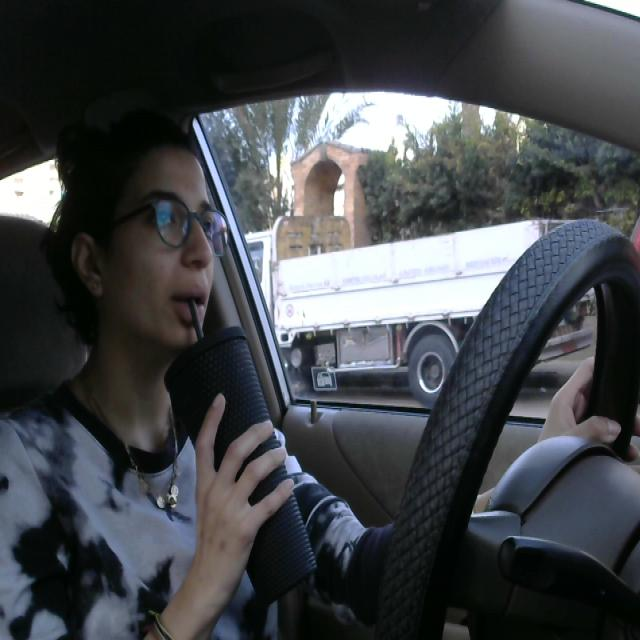drinking: (157, 296, 333, 615)
